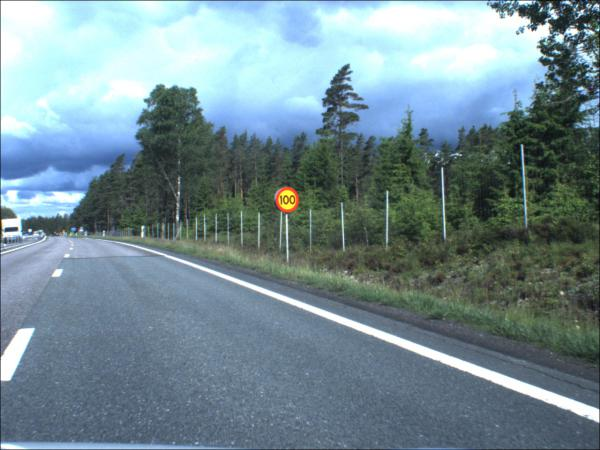100_SIGN: (276, 188, 301, 215)
